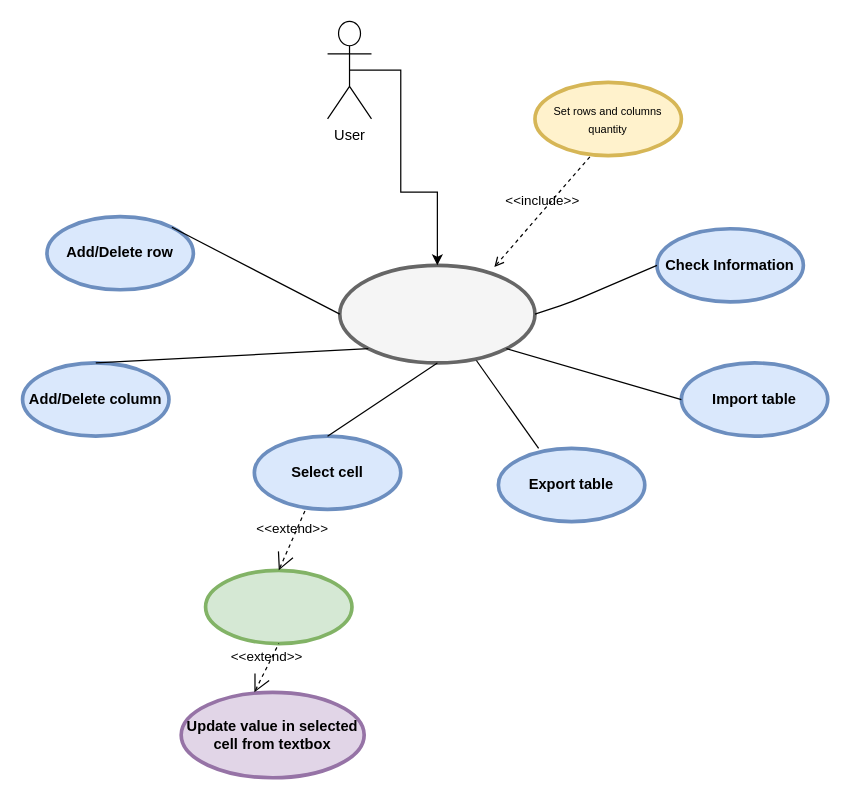
The diagram is 850 pixels wide and 800 high, and some of its shapes have lost their labels. The centre of each missing label's shape, as x and y in pixels:
"Create table" goes at point 436,313.
"insert value in textbox" goes at point 278,606.
